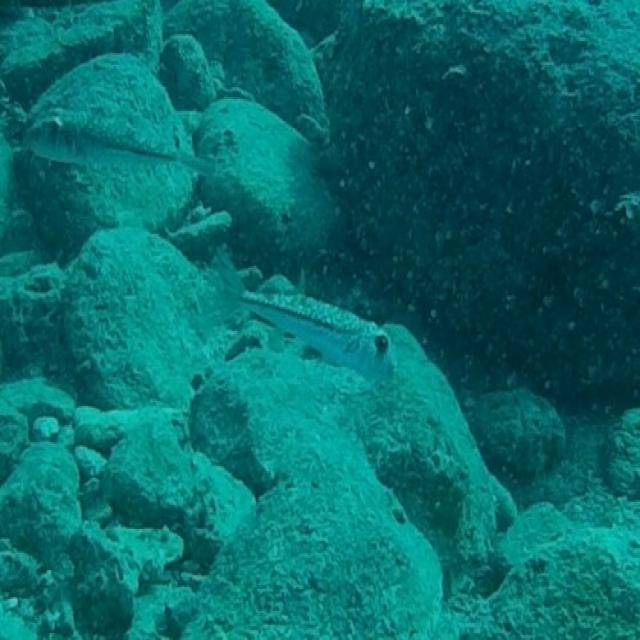Balik: (236, 284, 394, 380), (25, 115, 211, 174)
